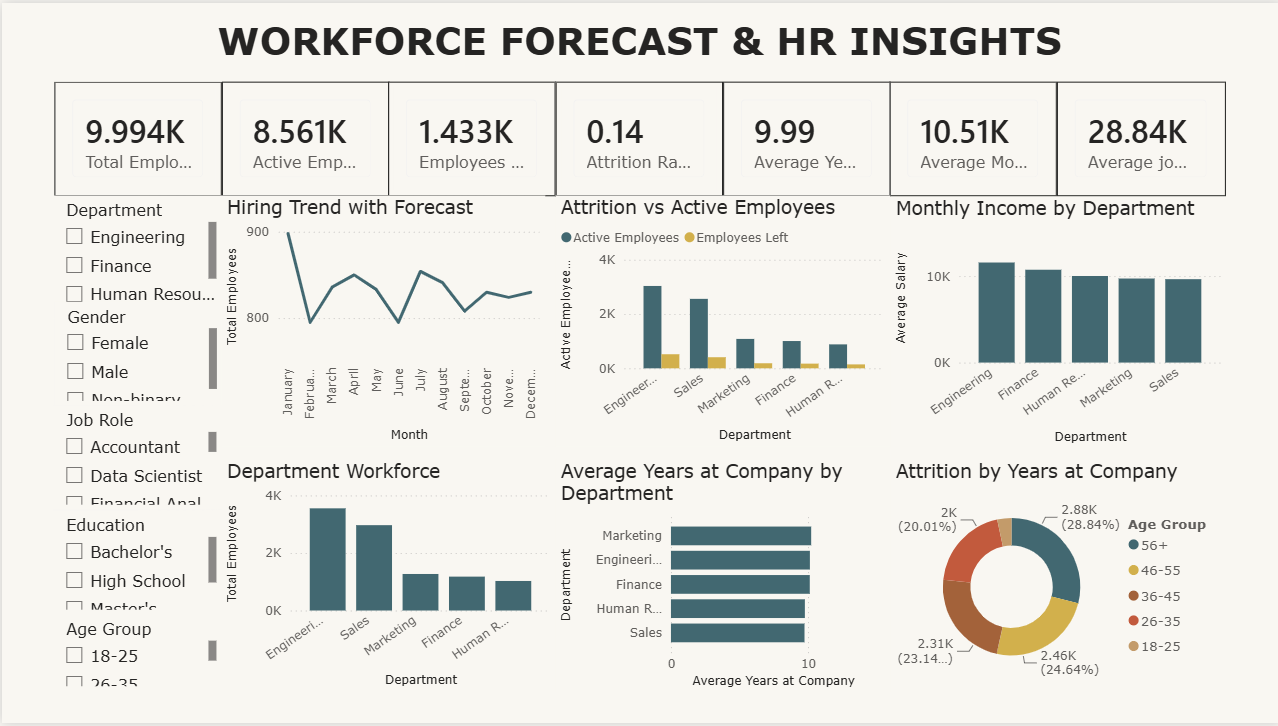

This screenshot's page, from the dashboard's own definition file:
{"tool":"powerbi","page":{"name":"WORKFORCE FORECAST & HR INSIGHTS","canvas":[1280,720],"ordinal":4},"visuals":[{"type":"cardVisual","fields":{"Data":["HR.Total Employees"]},"box":[52.4,78.6,167.1,114.3],"z":0},{"type":"textbox","box":[51.4,10,1172.9,68.6],"z":1000},{"type":"cardVisual","fields":{"Data":["HR.Average Monthly Salary"]},"box":[888.1,78.6,167.1,114.3],"z":2000},{"type":"cardVisual","fields":{"Data":["HR.Average Years at Company"]},"box":[721,78.6,167.1,114.3],"z":3000},{"type":"cardVisual","fields":{"Data":["HR.Active Employees"]},"box":[219.5,78.6,167.1,114.3],"z":4000},{"type":"cardVisual","fields":{"Data":["HR.Employees Left"]},"box":[386.7,78.6,167.1,114.3],"z":5000},{"type":"cardVisual","fields":{"Data":["HR.Attrition Rate"]},"box":[553.8,78.6,167.1,114.3],"z":6000},{"type":"cardVisual","fields":{"Data":["Sum(HR.Job Satisfaction)"]},"box":[1055.2,78.6,168.6,114.3],"z":7000},{"type":"clusteredColumnChart","title":"Attrition vs Active Employees","fields":{"Category":["HR.Department"],"Y":["HR.Active Employees","HR.Employees Left"]},"box":[554.3,192.9,334.3,251.4],"z":8000},{"type":"slicer","fields":{"Values":["HR.Department"]},"box":[51.4,192.9,168.6,122.9],"z":9000},{"type":"slicer","fields":{"Values":["HR.Gender"]},"box":[52.9,298.6,167.1,104.3],"z":10000},{"type":"slicer","fields":{"Values":["HR.Job Role"]},"box":[51.4,402.9,168.6,104.3],"z":11000},{"type":"slicer","fields":{"Values":["HR.Education"]},"box":[51.4,507.1,168.6,104.3],"z":12000},{"type":"slicer","fields":{"Values":["HR.Age Group"]},"box":[51.4,611.4,168.6,77.1],"z":13000},{"type":"columnChart","title":"Monthly Income by Department","fields":{"Category":["HR.Department"],"Y":["HR.Average Salary"]},"box":[888.6,194.3,335.7,251.4],"z":14000},{"type":"clusteredColumnChart","title":"Department Workforce","fields":{"Category":["HR.Department"],"Y":["HR.Total Employees"]},"box":[220,455.7,334.3,232.9],"z":16000},{"type":"barChart","title":"Average Years at Company by Department","fields":{"Category":["HR.Department"],"Y":["HR.Average Years at Company"]},"box":[554,456,334,233],"z":17000},{"type":"donutChart","title":"Attrition by Years at Company","fields":{"Category":["HR.Age Group"],"Y":["HR.Total Employees"]},"box":[889,456,336,233],"z":18000},{"type":"lineChart","title":"Hiring Trend with Forecast","fields":{"Category":["HR.Hire Date.Variation.Date Hierarchy.Month"],"Y":["HR.Total Employees"]},"box":[220,192.9,322.9,251.4],"z":18001}]}

Visuals, with their boxes in screenshot pixels (x1, y1, x2, y2), scaled from the page's 1280x720 canvas onto the 1278x726 screenshot:
cardVisual - HR.Total Employees: [x1=52, y1=79, x2=219, y2=195]
textbox: [x1=51, y1=10, x2=1222, y2=79]
cardVisual - HR.Average Monthly Salary: [x1=887, y1=79, x2=1054, y2=195]
cardVisual - HR.Average Years at Company: [x1=720, y1=79, x2=887, y2=195]
cardVisual - HR.Active Employees: [x1=219, y1=79, x2=386, y2=195]
cardVisual - HR.Employees Left: [x1=386, y1=79, x2=553, y2=195]
cardVisual - HR.Attrition Rate: [x1=553, y1=79, x2=720, y2=195]
cardVisual - Sum(HR.Job Satisfaction): [x1=1054, y1=79, x2=1222, y2=195]
"Attrition vs Active Employees" clusteredColumnChart: [x1=553, y1=195, x2=887, y2=448]
slicer - HR.Department: [x1=51, y1=195, x2=220, y2=318]
slicer - HR.Gender: [x1=53, y1=301, x2=220, y2=406]
slicer - HR.Job Role: [x1=51, y1=406, x2=220, y2=511]
slicer - HR.Education: [x1=51, y1=511, x2=220, y2=616]
slicer - HR.Age Group: [x1=51, y1=616, x2=220, y2=694]
"Monthly Income by Department" columnChart: [x1=887, y1=196, x2=1222, y2=449]
"Department Workforce" clusteredColumnChart: [x1=220, y1=459, x2=553, y2=694]
"Average Years at Company by Department" barChart: [x1=553, y1=460, x2=887, y2=695]
"Attrition by Years at Company" donutChart: [x1=888, y1=460, x2=1223, y2=695]
"Hiring Trend with Forecast" lineChart: [x1=220, y1=195, x2=542, y2=448]
